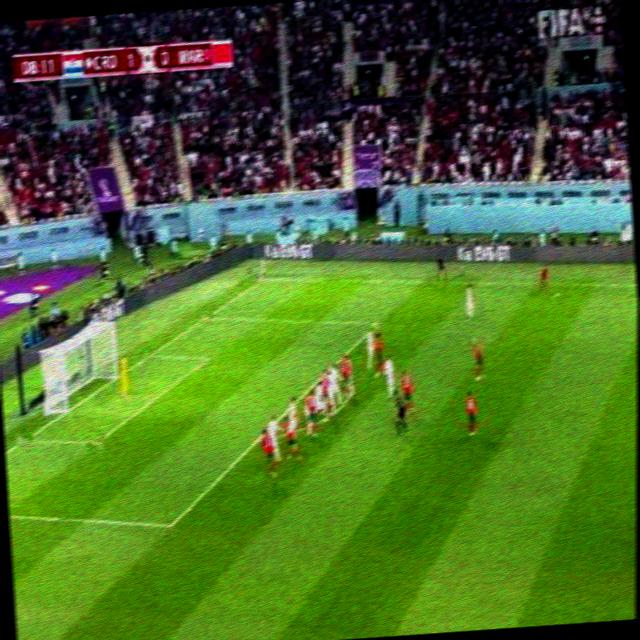bigarea_bottom_inner: (160, 510, 181, 536)
bigarea_top_inner: (368, 314, 382, 331)
bigarea_top_outter: (199, 308, 213, 324)
corner: (255, 271, 271, 284)
smallarea_bottom_inner: (85, 429, 104, 454)
smallarea_bottom_outter: (15, 428, 33, 447)
smallarea_top_inner: (199, 348, 215, 366)
smallarea_top_outter: (141, 345, 159, 361)
